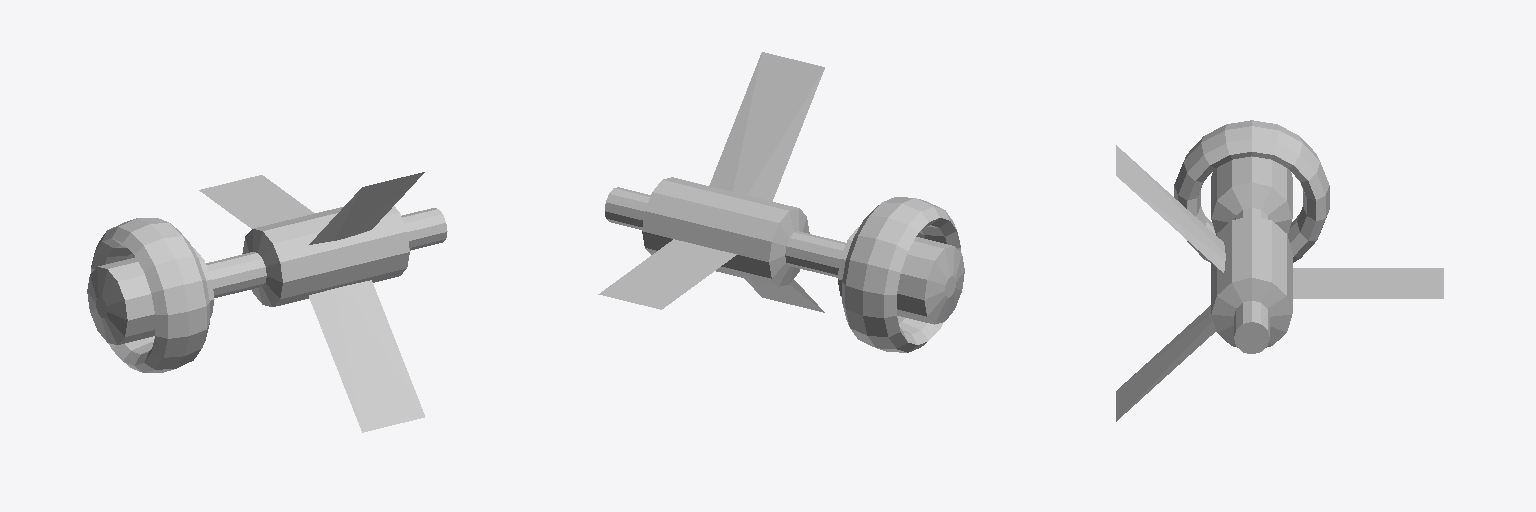
The model's file is starblast-1538718049626.obj.
The picture shows the model from 3 angles: view 1: azimuth 30°, elevation 25°; view 2: azimuth 150°, elevation 25°; view 3: azimuth 270°, elevation 25°; orthographic projection.
Bounding box in the file's own units: 3.45 × 2.4 × 2.9.